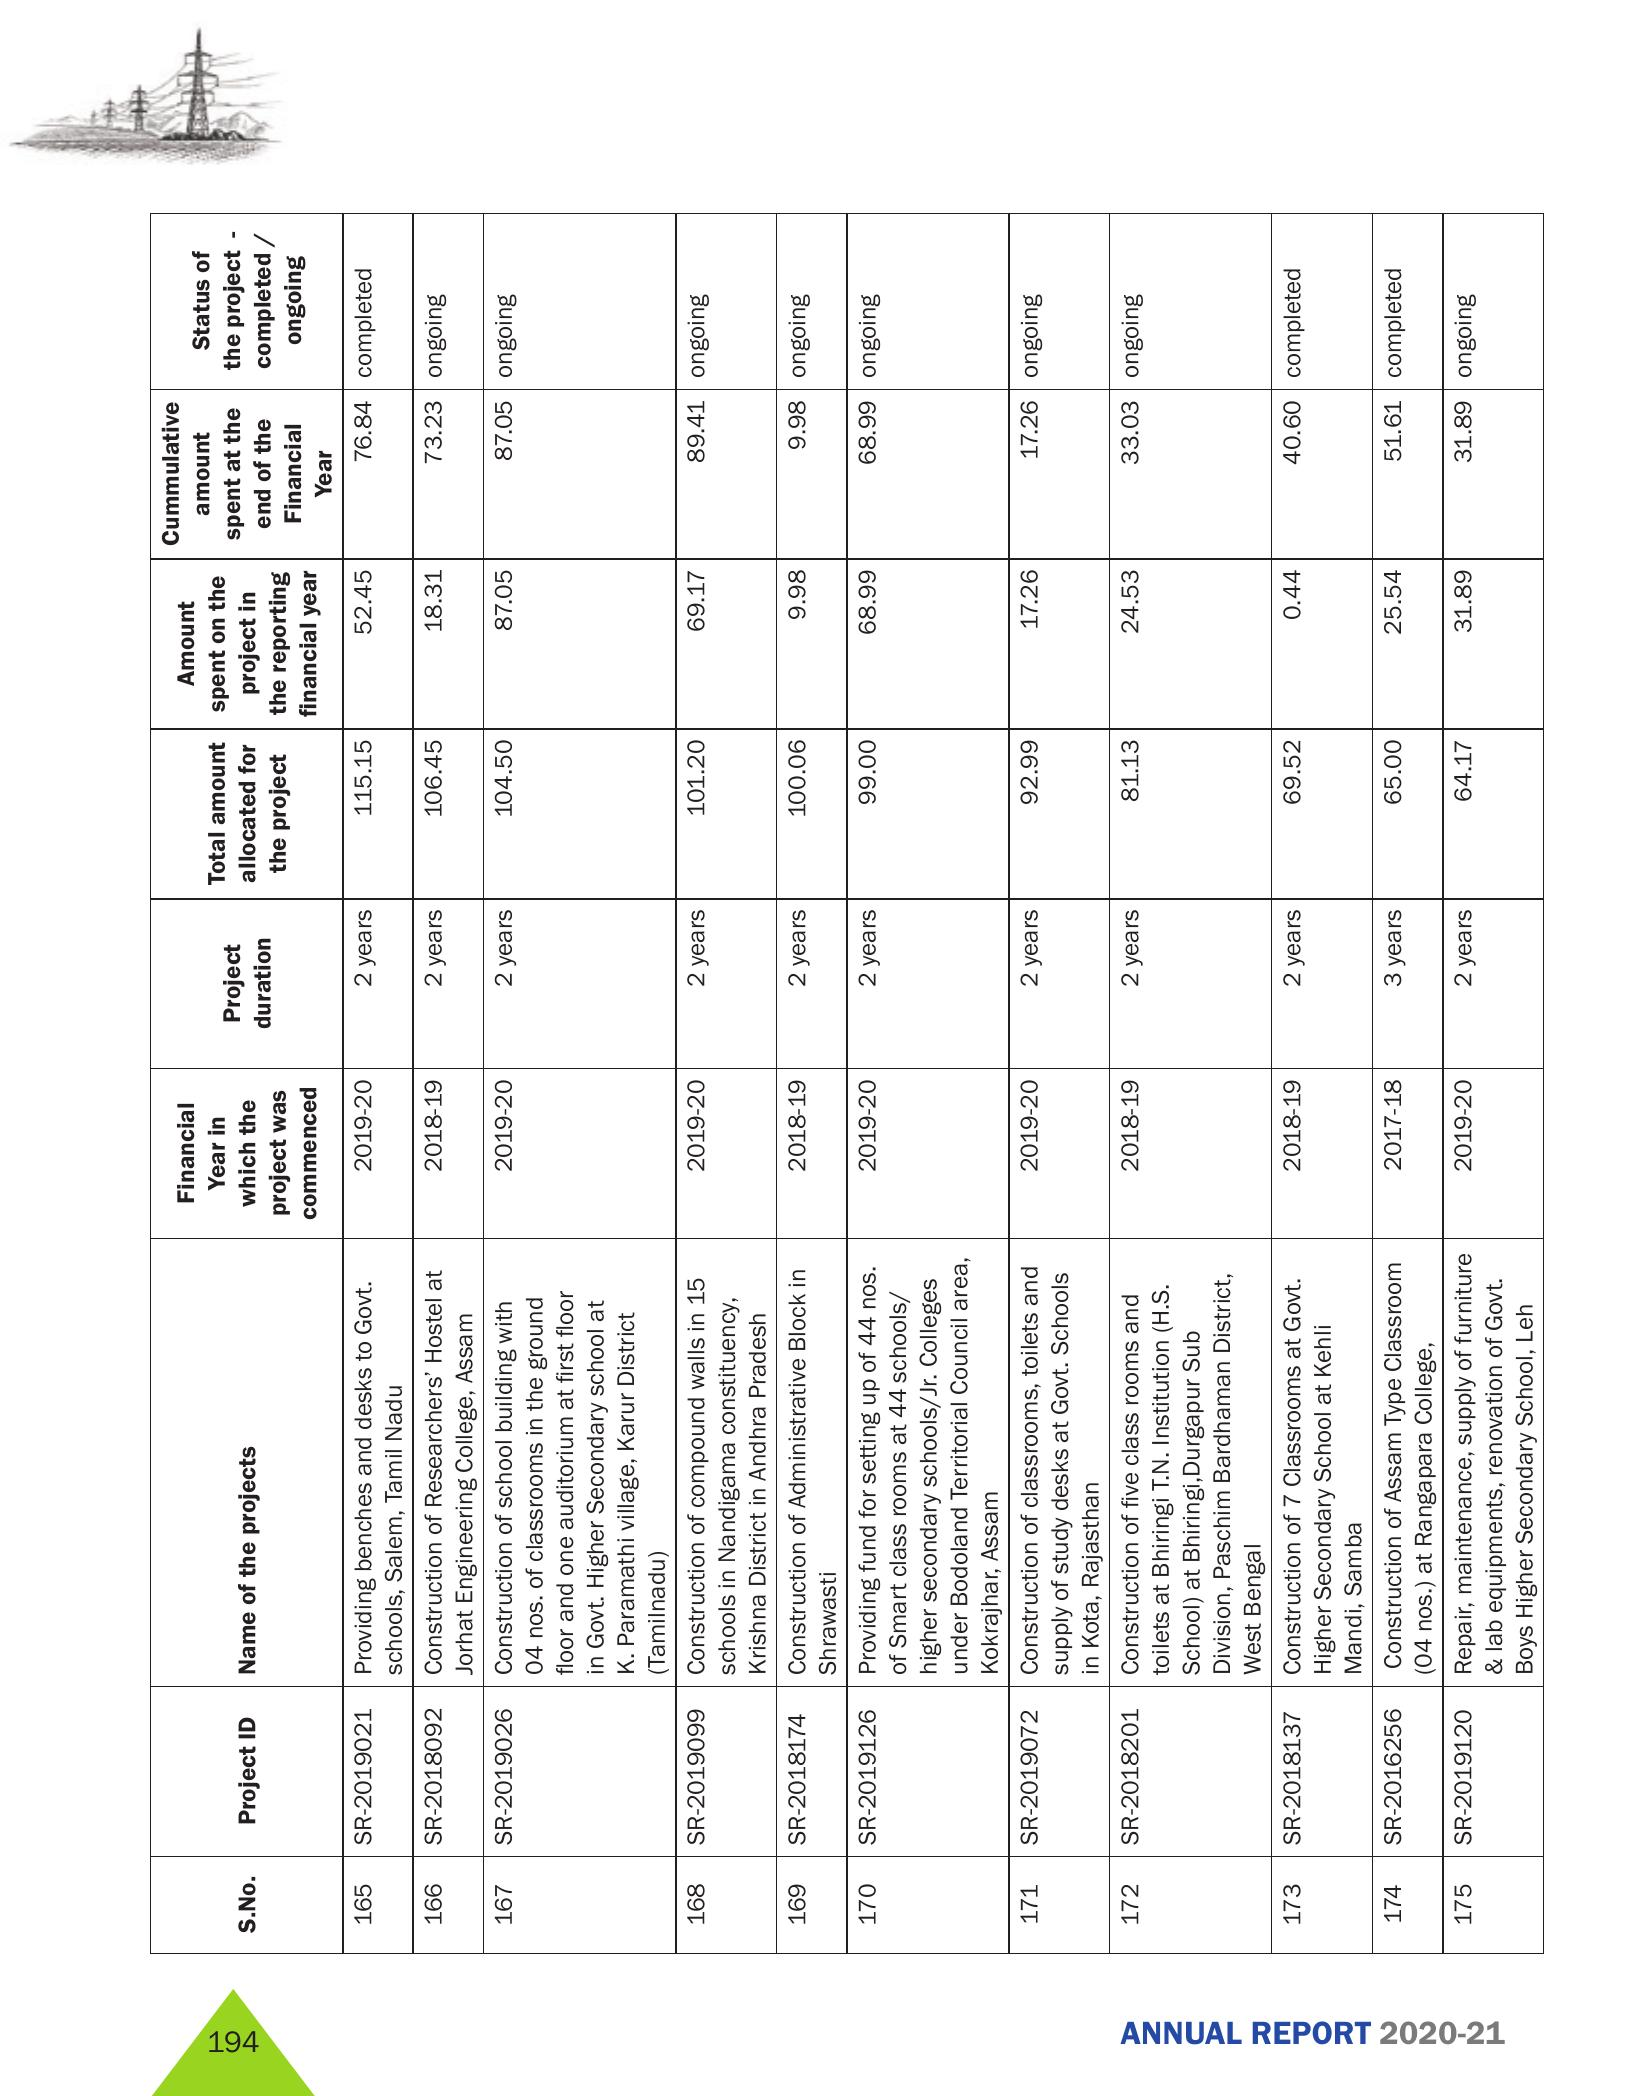Footer: (0, 1982, 1650, 2096)
Header: (0, 0, 1650, 180)
Table: (129, 218, 1577, 1968)
